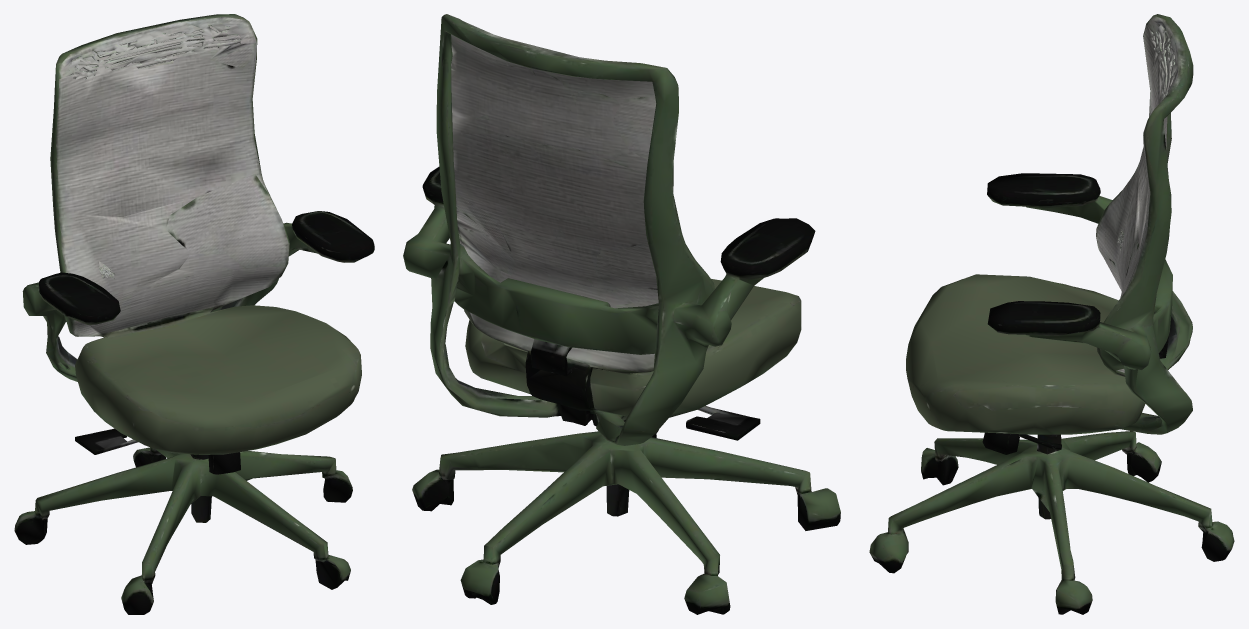
The model's file is HmteJBPq3Ru-Qw1NmFRyx.glb.
3 renders of one model, left to right at view 1: azimuth 30°, elevation 25°; view 2: azimuth 150°, elevation 25°; view 3: azimuth 270°, elevation 25°, orthographic. The views are drawn at different scales.
Visible parts, largest first — view 1: geometry_0; view 2: geometry_0; view 3: geometry_0.
Boxes of the visible parts, x1,y1,x2,y2 form: geometry_0: [14, 14, 374, 614]; geometry_0: [403, 14, 840, 614]; geometry_0: [869, 14, 1234, 614].
Size of the model in its own units: 0.6978 by 1 by 0.6874.
Materials: 1 (1 with a texture image).
